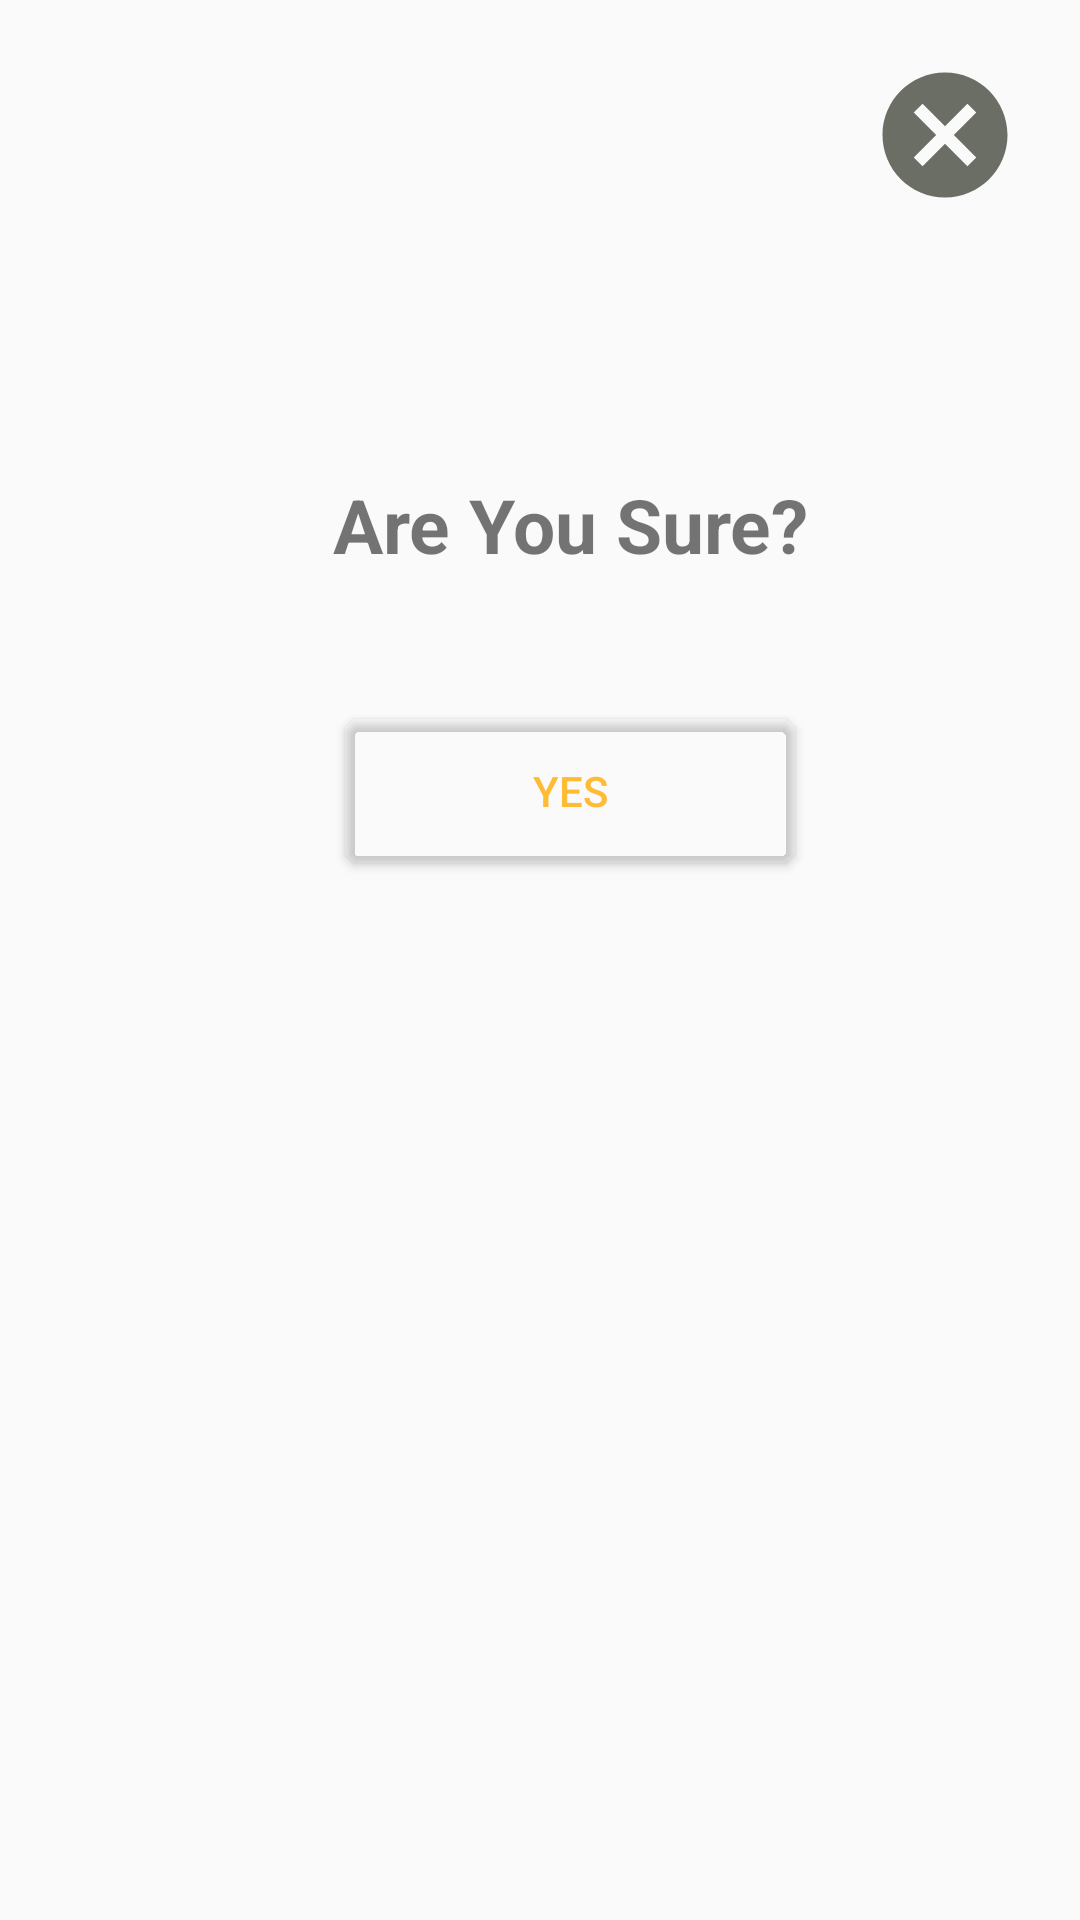

Where to tap for icons on this 1080 x 1920 app screen, as [x,y]:
cancel: [945,135]
